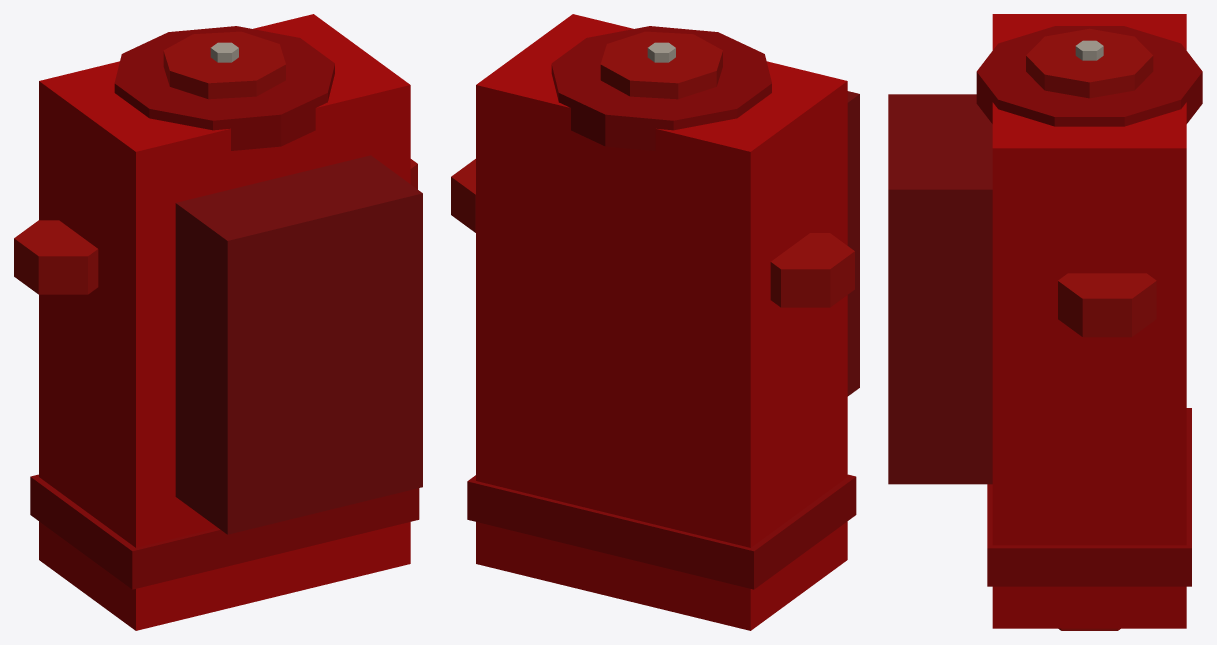
The model's file is soviet_torso.glb.
3 views of the same model, side by side, from view 1: azimuth 30°, elevation 25°; view 2: azimuth 150°, elevation 25°; view 3: azimuth 270°, elevation 25° (orthographic).
Parts seen in each view (by area): view 1: soviet_torso; view 2: soviet_torso; view 3: soviet_torso.
Part boxes in pixels (x1,y1,x2,y2): soviet_torso: (14, 14, 422, 630); soviet_torso: (451, 14, 859, 630); soviet_torso: (888, 14, 1202, 630).
Bounding box in the file's own units: 1.24 × 1.66 × 0.89.
